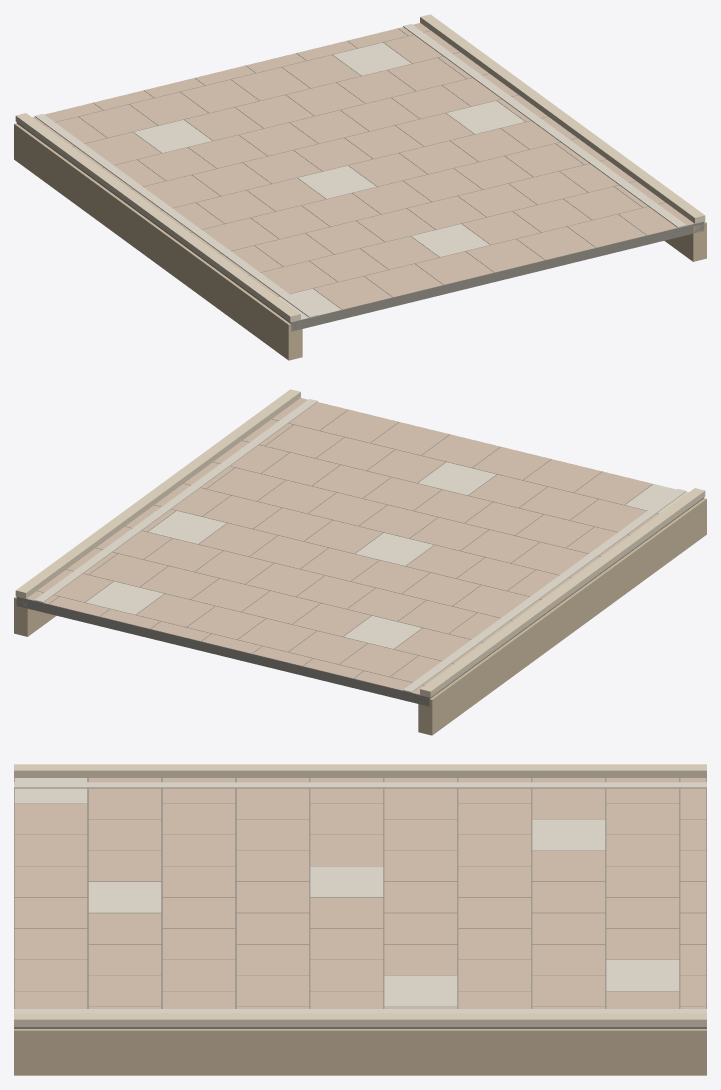
File: Promenade05.glb
3 renders of one model, top to bottom at view 1: azimuth 30°, elevation 25°; view 2: azimuth 150°, elevation 25°; view 3: azimuth 270°, elevation 25°, orthographic. The views are drawn at different scales.
Parts seen in each view (by area): view 1: Promenade05; view 2: Promenade05; view 3: Promenade05.
Part boxes in pixels (bbox=[...]): Promenade05: bbox=[14, 14, 706, 360]; Promenade05: bbox=[14, 389, 706, 735]; Promenade05: bbox=[14, 764, 706, 1075].
Bounding box in the file's own units: 12.76 × 1.27 × 14.52.
